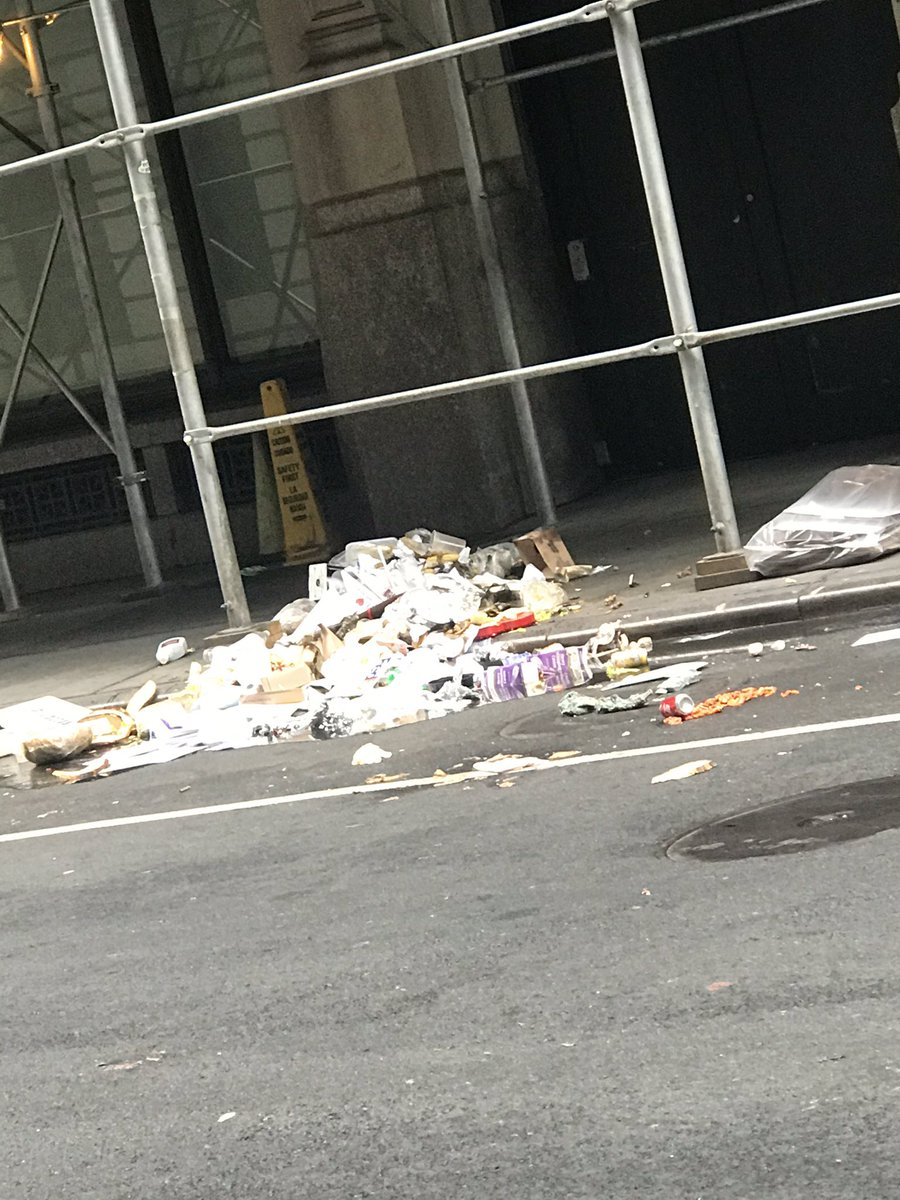building: (1, 1, 873, 423)
street: (16, 709, 900, 1200)
trash: (1, 451, 900, 860)
